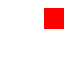square: (44, 8, 64, 28)
